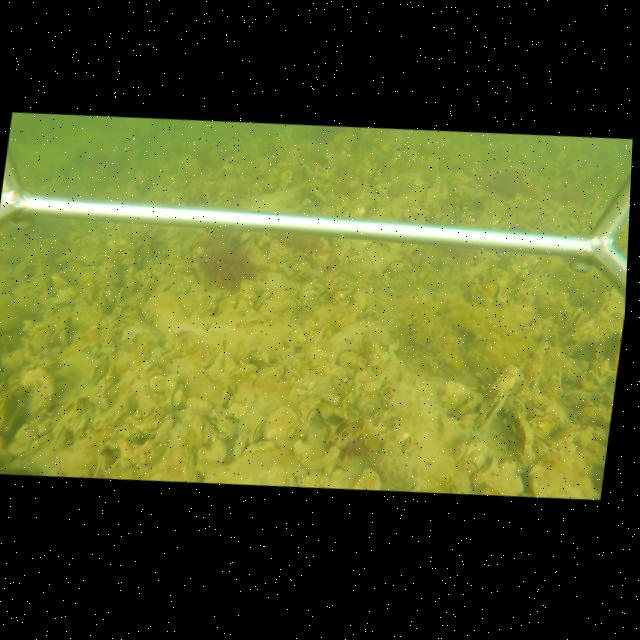Oyster-Closed: (505, 399, 536, 468), (252, 360, 285, 386), (228, 362, 258, 382), (247, 416, 265, 446)
Oyster-Indeterminate: (16, 366, 58, 422), (260, 402, 301, 440)
Oyster-Open: (474, 388, 508, 432), (565, 306, 587, 330)
